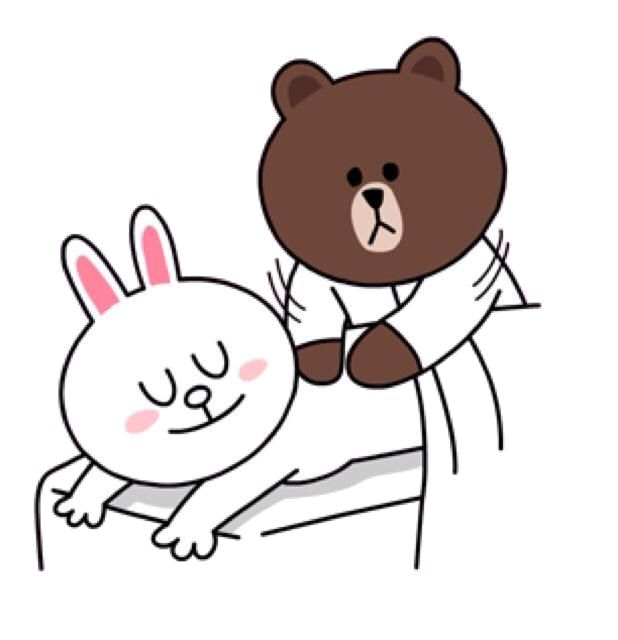line_brown: (253, 26, 525, 292)
